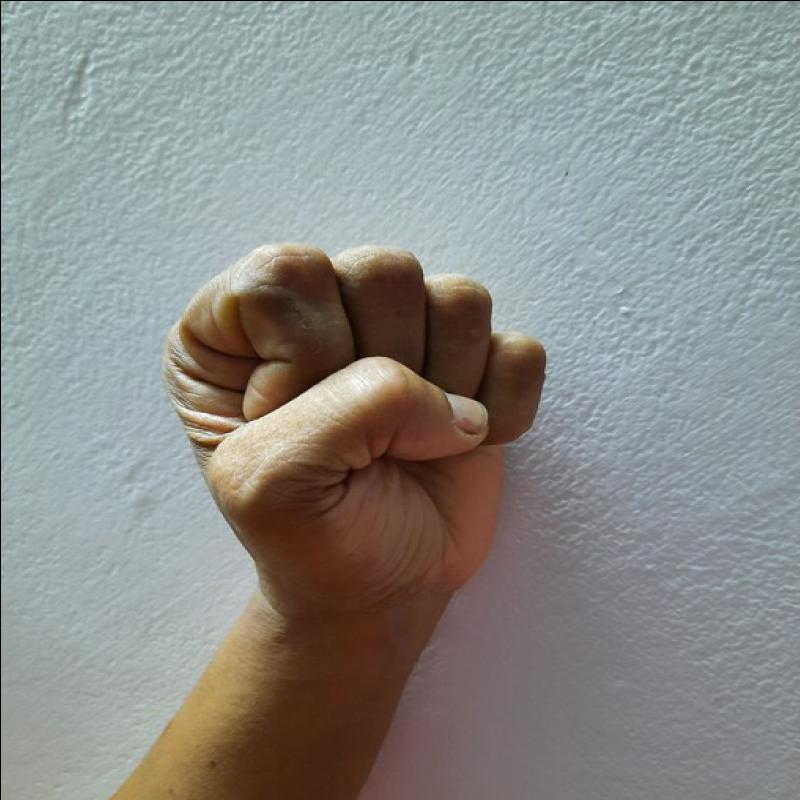Mushti: (94, 209, 605, 642)
